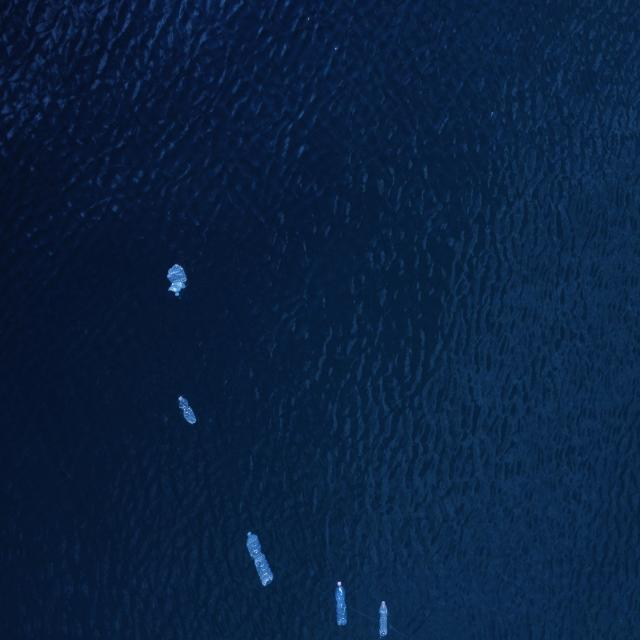bottles: (245, 529, 275, 588), (166, 263, 188, 299), (333, 579, 348, 628), (177, 394, 198, 427), (377, 601, 389, 640)
